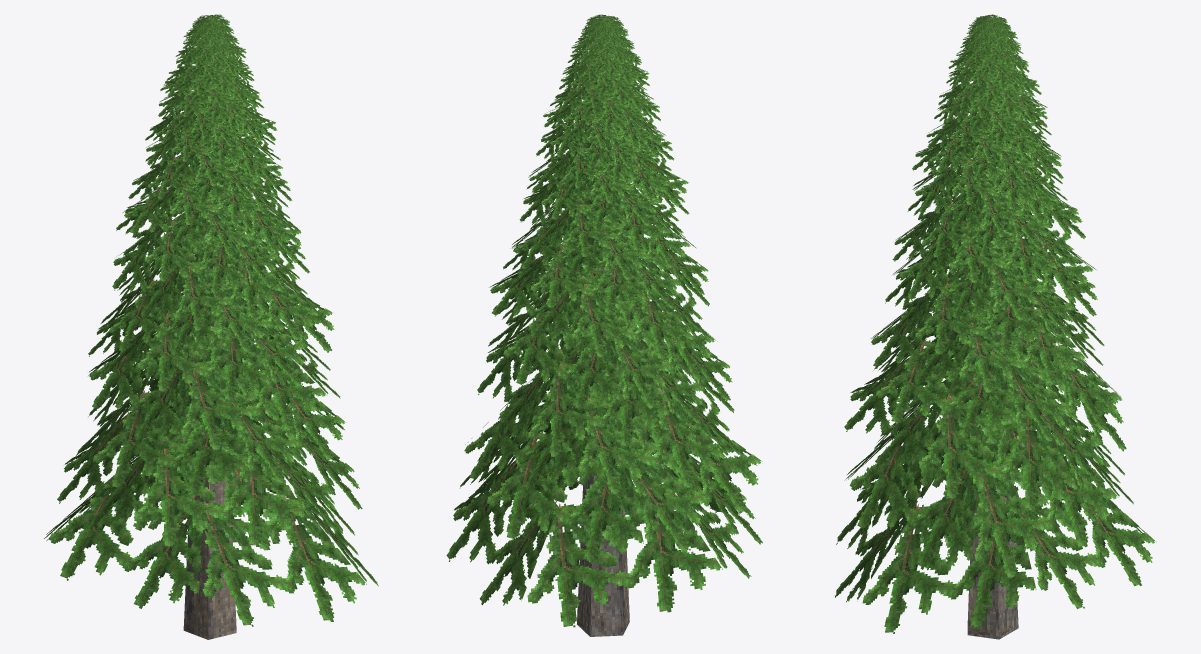
Rendered from tree.glb.
3 views of the same model, side by side, from view 1: azimuth 30°, elevation 25°; view 2: azimuth 150°, elevation 25°; view 3: azimuth 270°, elevation 25° (orthographic).
Visible parts, largest first — view 1: Cone; view 2: Cone; view 3: Cone.
Boxes of the visible parts, x1,y1,x2,y2 form: Cone: (44,14,378,639); Cone: (446,14,762,636); Cone: (835,14,1156,639).
Bounding box in the file's own units: 6.73 × 12 × 6.52.
Materials: 2 (2 with a texture image).
